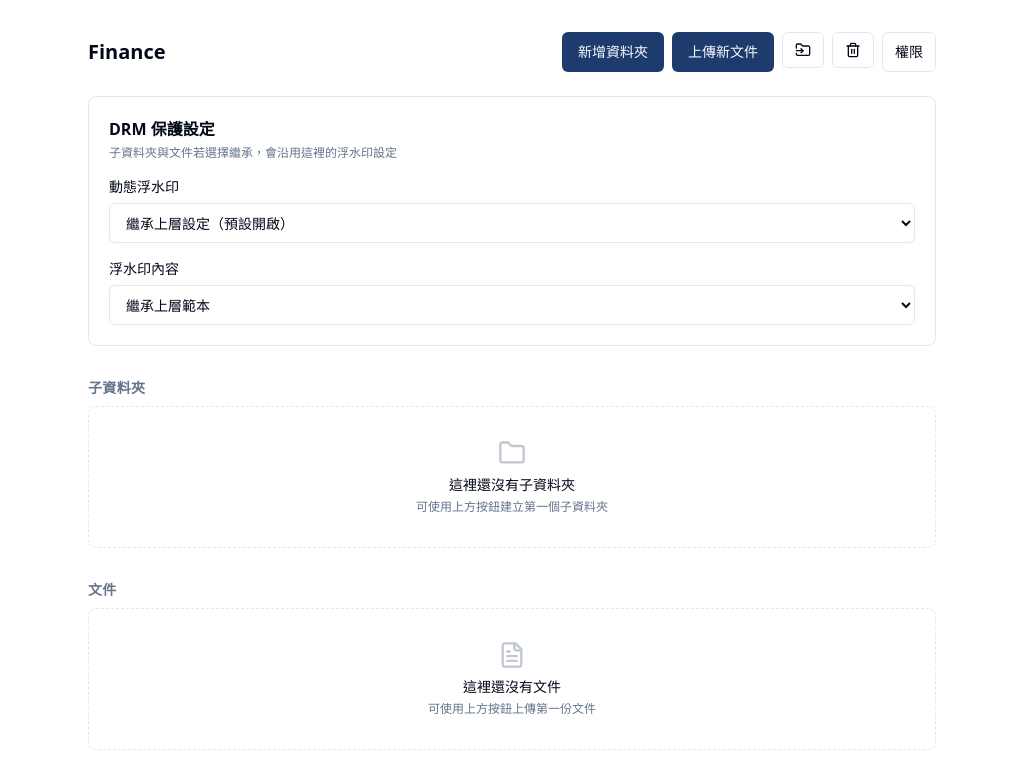
Test: FolderView › shows a failed header delete error inside the still-open DeleteConfirmDialog
Click the button with test id "delete-folder-folder-1": (853, 50) x1=832 y1=32 x2=874 y2=68
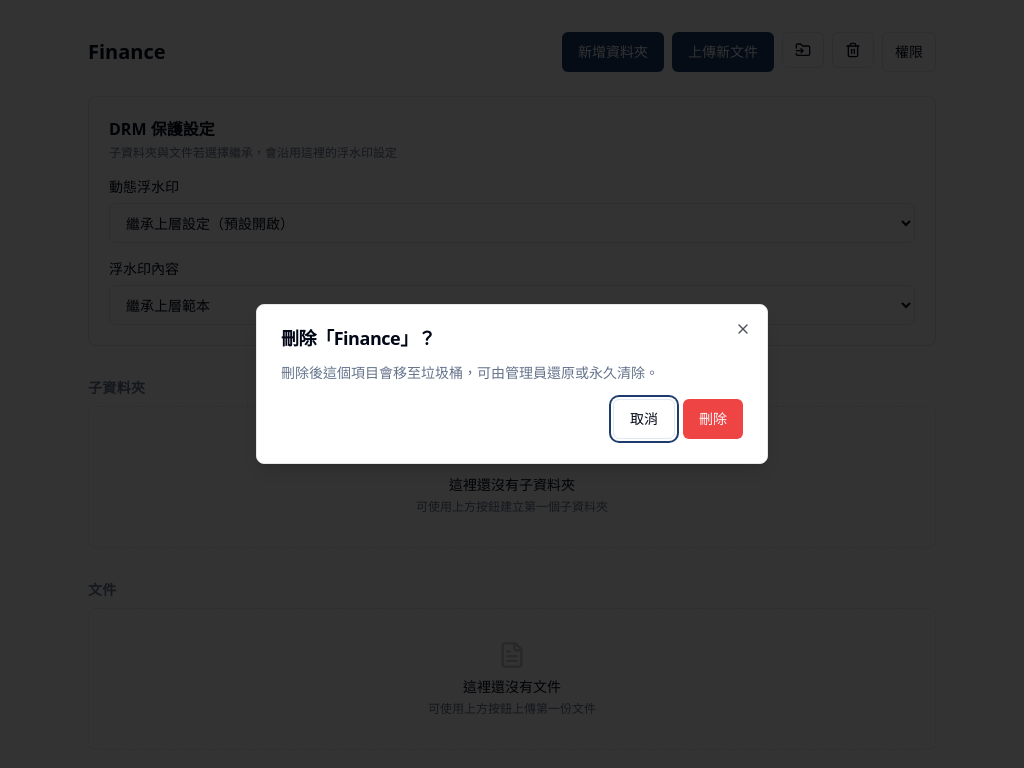
Now the button with test id "confirm-delete" is shown
Click the button with test id "confirm-delete": (713, 419) x1=683 y1=399 x2=743 y2=439
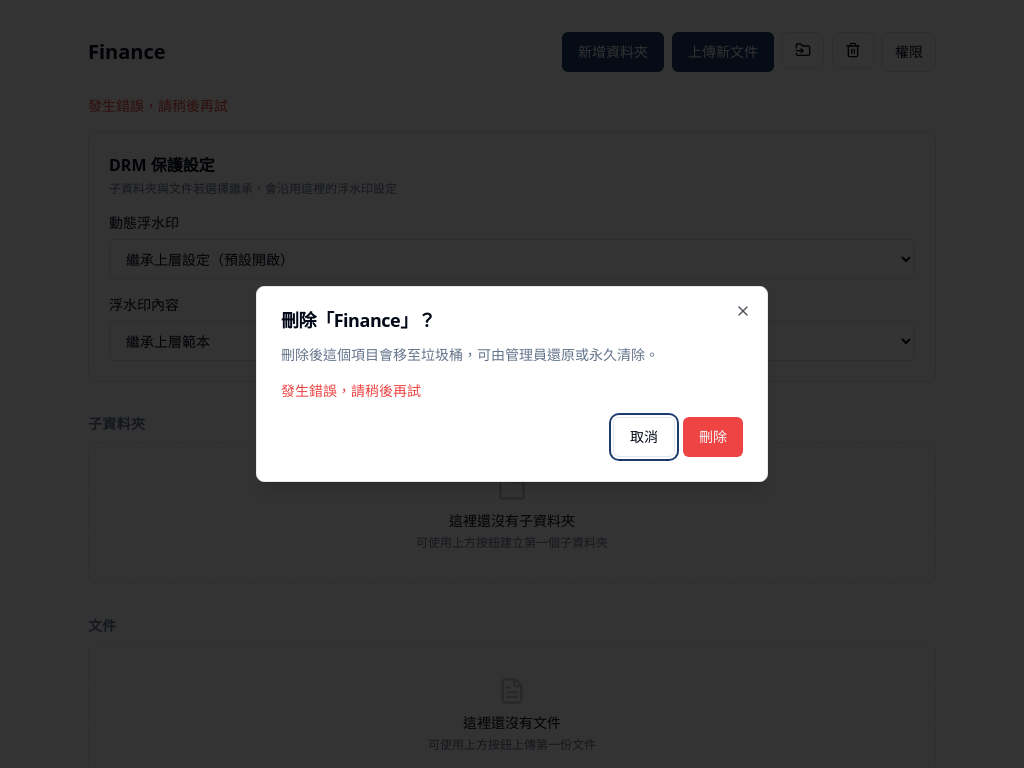
Now the button with test id "confirm-delete" is shown, box x1=683 y1=417 x2=743 y2=457
Now the text "發生錯誤，請稍後再試" is shown, box x1=281 y1=381 x2=421 y2=400
